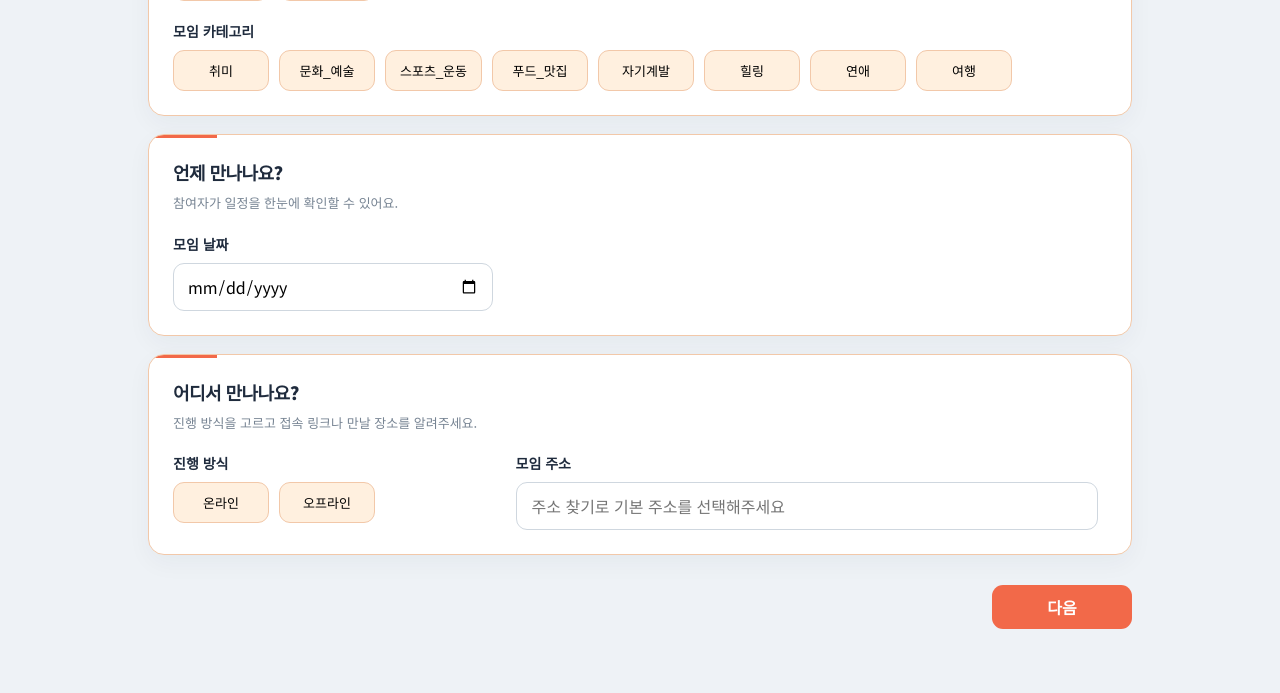
it: user page visual structure › offline meeting can fill its address from Kakao postcode search
(page scrolled)
Click the button "오프라인".
click(327, 503)  # box [279,482,375,523]
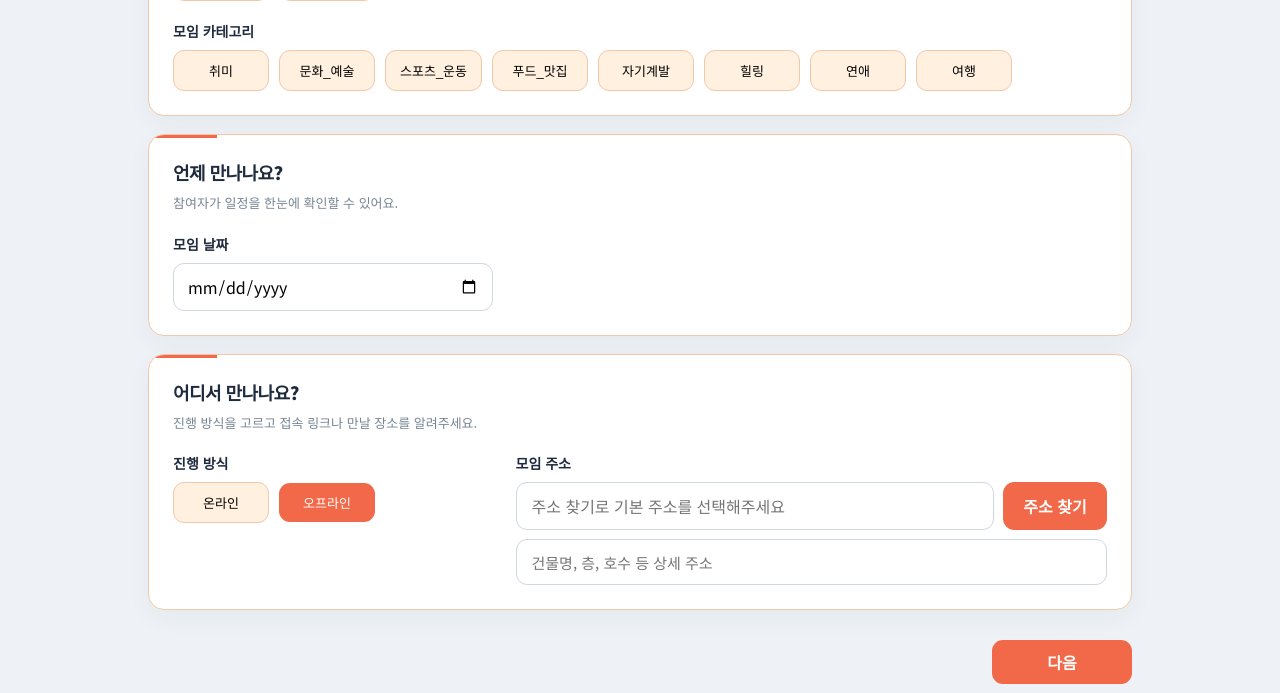
Click the field labelled "모임 주소".
click(755, 506)  # box [516,482,994,530]
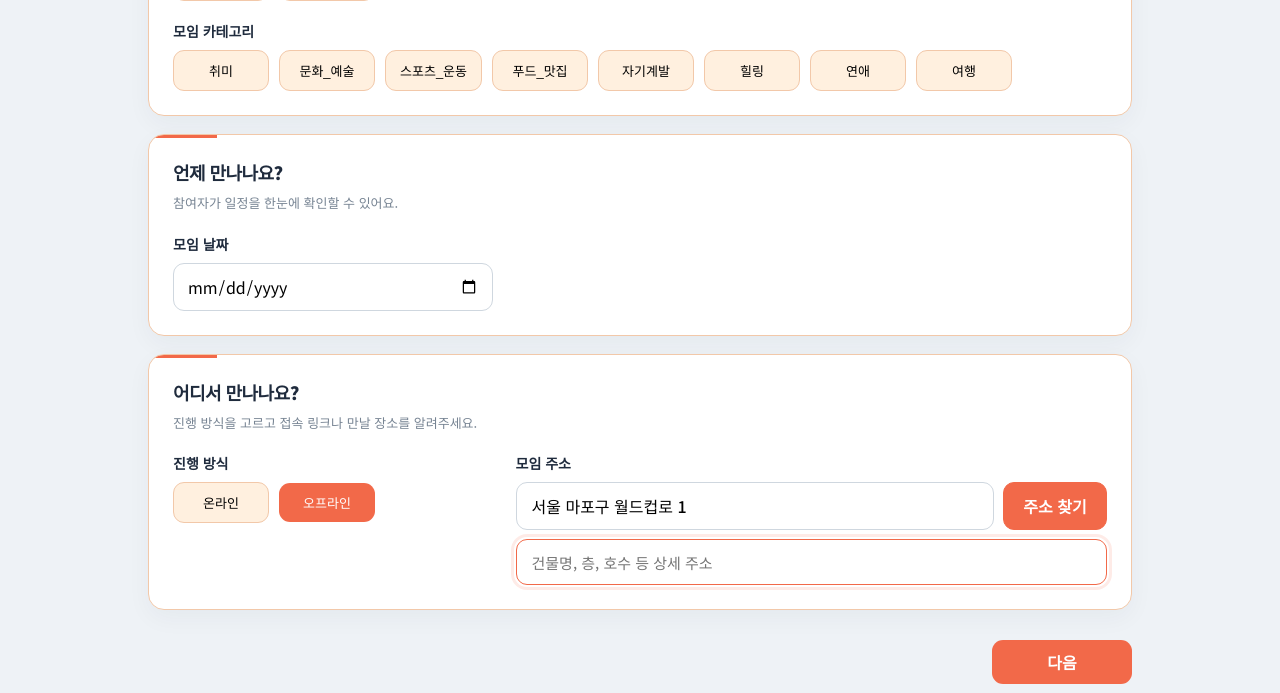
Result: the field labelled "상세 주소" is shown at [516,539,1107,585]
Result: the field labelled "모임 주소" holds "서울 마포구 월드컵로 1" at [516,482,994,530]
